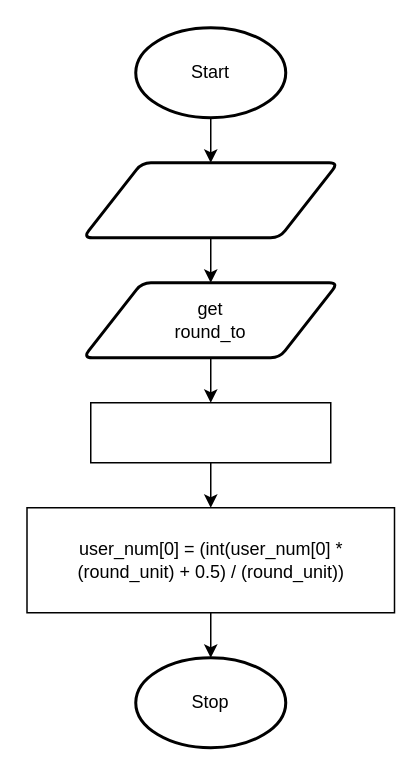
Some shapes in this 420 by 774 pixel diagram are drawn without their labels. Here are the shapes that lost their labels. From the top down, the centre of each, then its label:
At point (210, 199): "get user_num".
At point (210, 432): "round_unit = 10 ** round_to".
